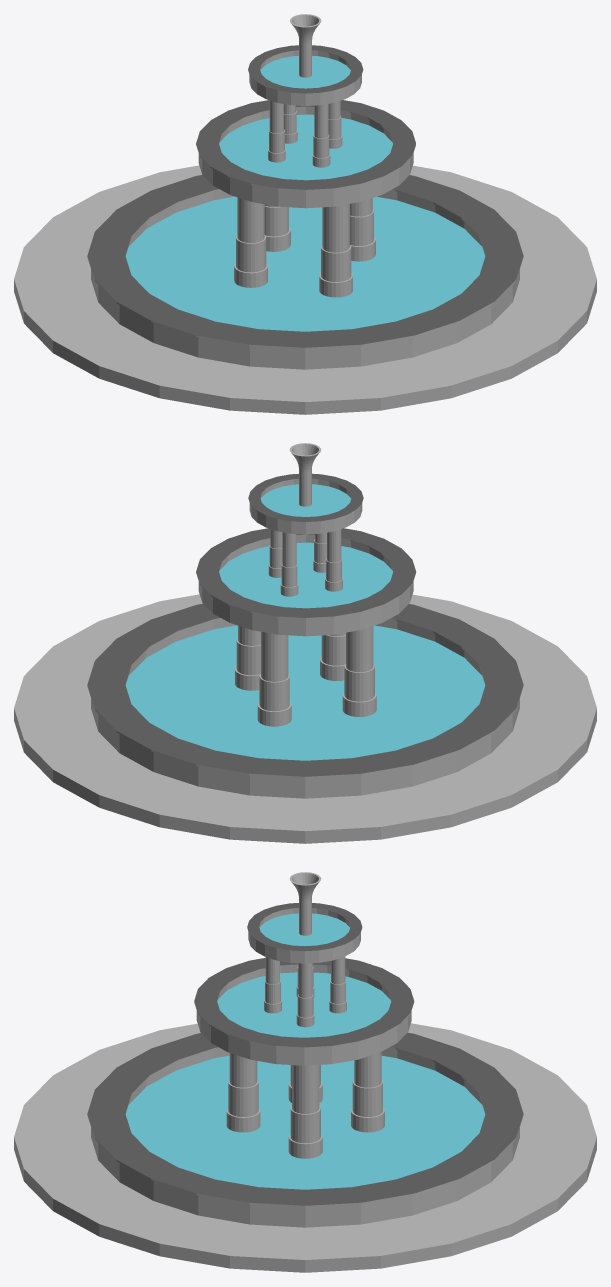
3 renders of one model, top to bottom at view 1: azimuth 30°, elevation 25°; view 2: azimuth 150°, elevation 25°; view 3: azimuth 270°, elevation 25°, orthographic.
Parts seen in each view (by area): view 1: Cylinder017, Cylinder020, Cylinder027, Cylinder021, Cylinder022, Cylinder016, Cylinder019, Cylinder026, Cylinder023, Cylinder025, Cylinder024; view 2: Cylinder017, Cylinder020, Cylinder027, Cylinder019, Cylinder022, Cylinder016, Cylinder021, Cylinder026, Cylinder018, Cylinder025, Cylinder024; view 3: Cylinder017, Cylinder020, Cylinder027, Cylinder016, Cylinder021, Cylinder019, Cylinder026, Cylinder024, Cylinder018, Cylinder023.
Boxes of the visible parts, x1,y1,x2,y2 form: Cylinder017: (14, 165, 596, 414); Cylinder020: (196, 100, 415, 208); Cylinder027: (248, 45, 363, 105); Cylinder021: (319, 204, 352, 297); Cylinder022: (234, 197, 267, 287); Cylinder016: (350, 198, 375, 261); Cylinder019: (264, 204, 290, 251); Cylinder026: (290, 14, 321, 77); Cylinder023: (312, 104, 330, 167); Cylinder025: (268, 100, 285, 162); Cylinder024: (328, 101, 342, 148); Cylinder017: (14, 594, 596, 843); Cylinder020: (196, 528, 416, 636); Cylinder027: (248, 473, 363, 534); Cylinder019: (257, 632, 291, 726); Cylinder022: (342, 626, 376, 716); Cylinder016: (235, 625, 260, 690); Cylinder021: (320, 632, 345, 680); Cylinder026: (289, 443, 321, 506); Cylinder018: (280, 532, 298, 596); Cylinder025: (325, 529, 342, 591); Cylinder024: (268, 529, 282, 577); Cylinder017: (14, 1023, 596, 1272); Cylinder020: (194, 958, 414, 1065); Cylinder027: (247, 903, 362, 963); Cylinder016: (288, 1065, 322, 1158); Cylinder021: (226, 1053, 260, 1132); Cylinder019: (351, 1052, 384, 1132); Cylinder026: (289, 872, 321, 935); Cylinder024: (296, 963, 314, 1027); Cylinder018: (329, 956, 346, 1013); Cylinder023: (264, 957, 281, 1013).
Bounding box in the file's own units: 843016 × 432098 × 843016.
